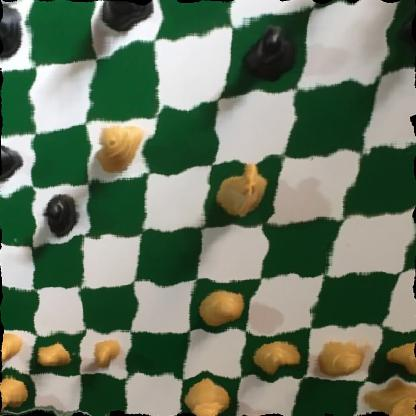black-bishop: (100, 0, 161, 38)
black-king: (0, 0, 29, 68)
black-pawn: (233, 16, 301, 91), (37, 190, 80, 239), (394, 0, 416, 66), (0, 139, 23, 185)
white-king: (175, 386, 231, 416)
white-knight: (212, 151, 272, 225)
white-pawn: (308, 334, 378, 378), (196, 284, 249, 328), (244, 336, 307, 373), (370, 335, 416, 383), (33, 339, 76, 373), (87, 336, 125, 370), (0, 330, 30, 365)
white-queen: (94, 109, 151, 171)
white-rook: (353, 379, 416, 416), (0, 375, 31, 415)
